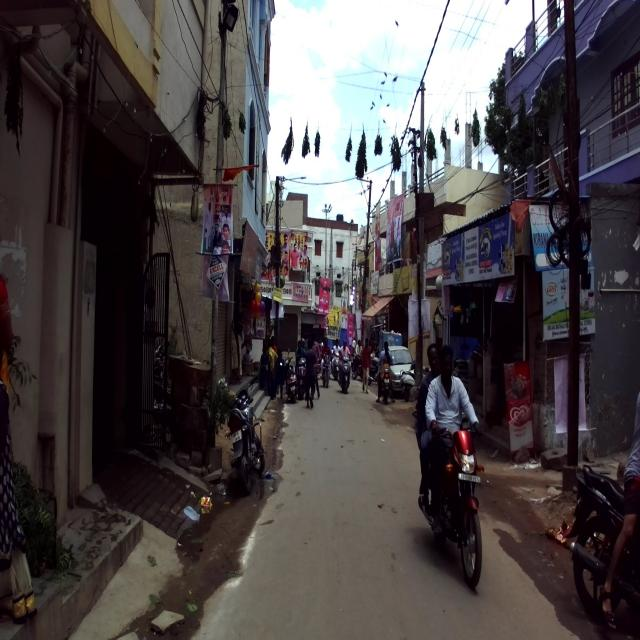motorcycle: (418, 401, 488, 588), (224, 374, 265, 494)
scooter: (278, 348, 297, 405), (339, 352, 352, 393), (297, 357, 306, 399)
